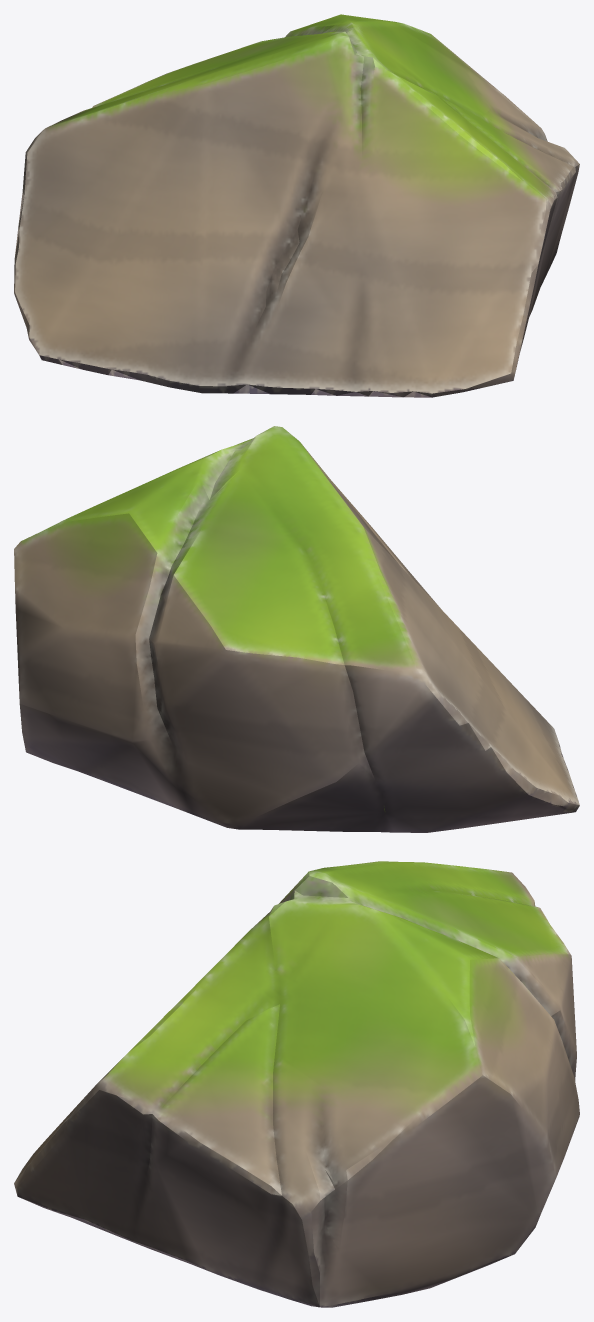
File: rock_a.glb
3 renders of one model, top to bottom at view 1: azimuth 30°, elevation 25°; view 2: azimuth 150°, elevation 25°; view 3: azimuth 270°, elevation 25°, orthographic. The views are drawn at different scales.
Visible parts, largest first — view 1: rock_a; view 2: rock_a; view 3: rock_a.
Boxes of the visible parts, bbox=[...] form: rock_a: bbox=[14, 14, 579, 397]; rock_a: bbox=[14, 426, 579, 832]; rock_a: bbox=[14, 861, 579, 1307].
Bounding box in the file's own units: 1.05 × 0.5441 × 0.8622.
1 material, 1 textured.
